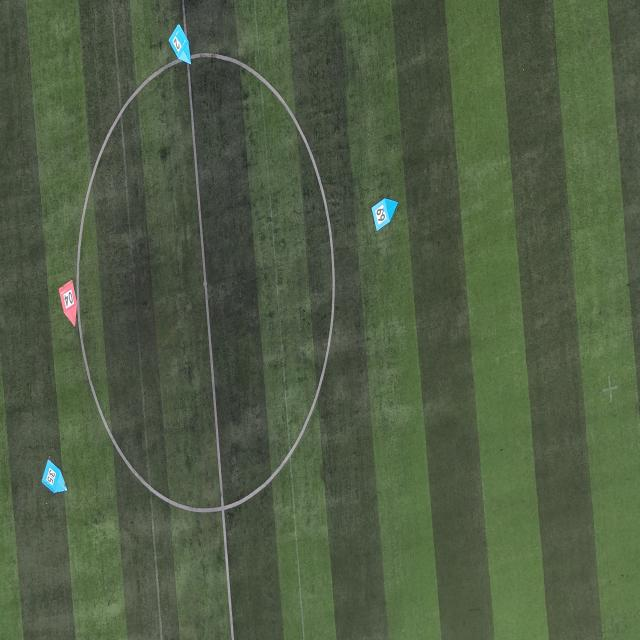board: (168, 23, 192, 65), (41, 458, 68, 493), (371, 198, 398, 232), (59, 279, 77, 327)
